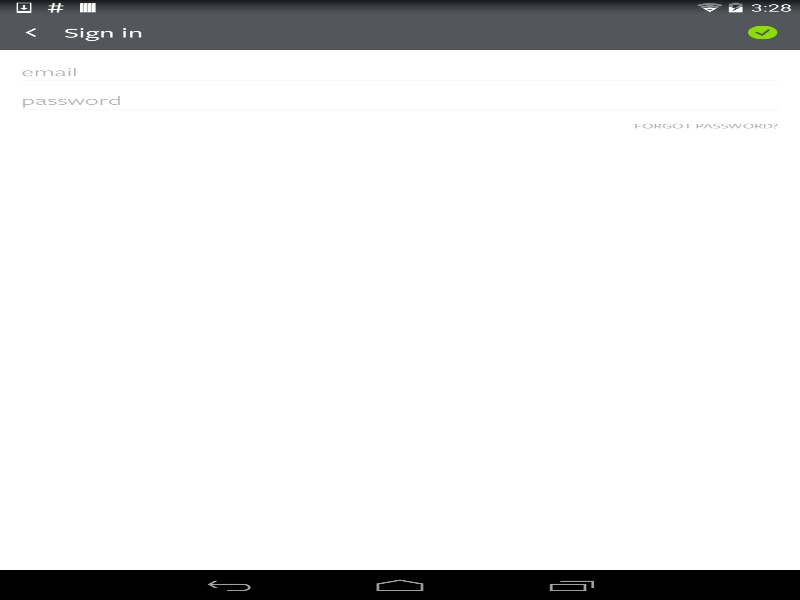Input: (21, 80, 778, 109), (21, 63, 778, 80)
